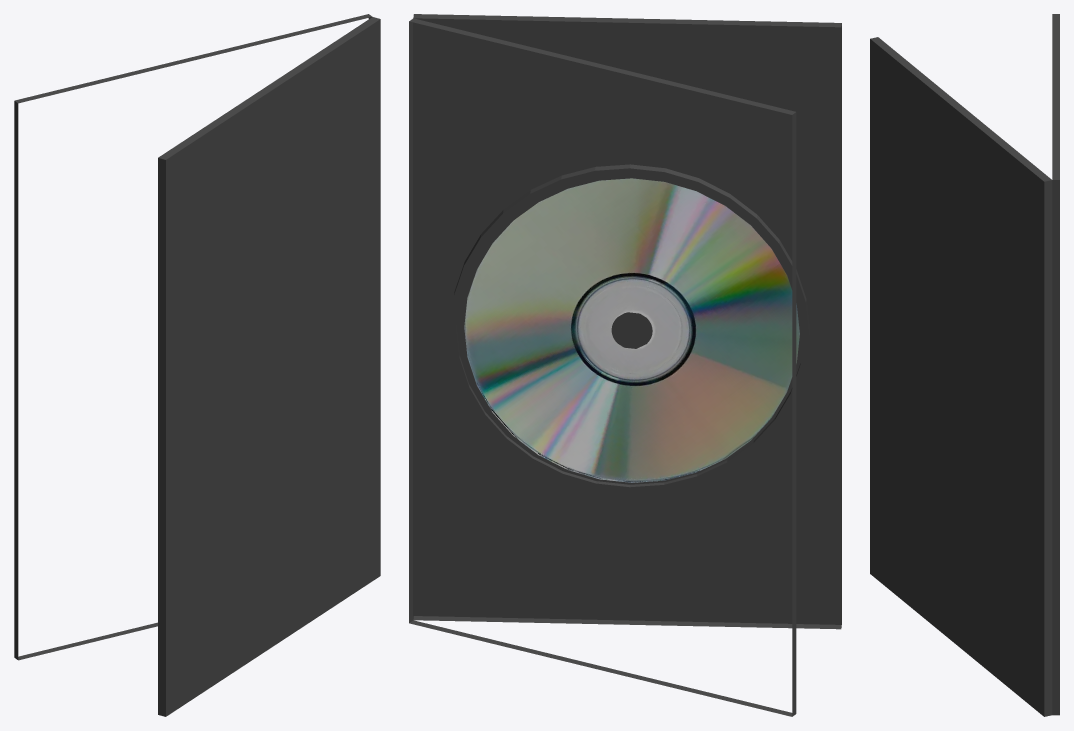
The model's file is dvd-transformed.glb.
3 views of the same model, side by side, from view 1: azimuth 30°, elevation 25°; view 2: azimuth 150°, elevation 25°; view 3: azimuth 270°, elevation 25° (orthographic). The views are drawn at different scales.
Visible parts, largest first — view 1: Plane.001; view 2: Plane.001; view 3: Plane.001.
Part boxes in pixels (x1,y1,x2,y2): Plane.001: (14,14,380,716); Plane.001: (409,14,841,716); Plane.001: (870,14,1059,716).
Bounding box in the file's own units: 1.78 × 2.65 × 0.8503.
Materials: 2 (1 with a texture image).
